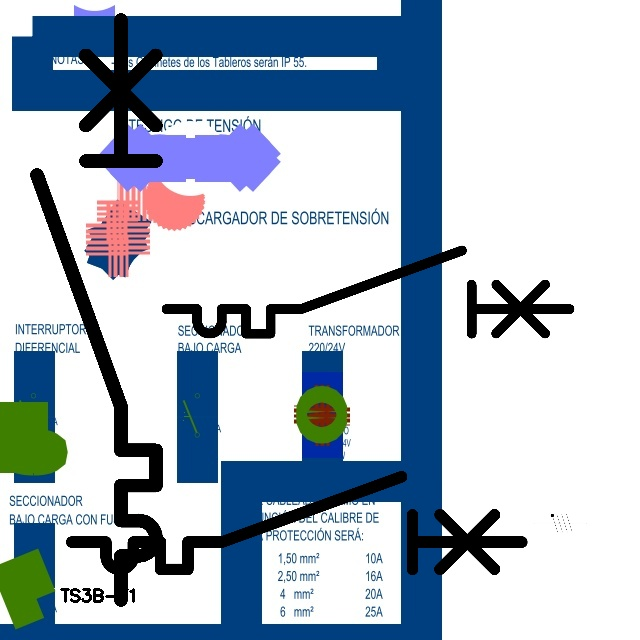interruptor_termomagnetico: (22, 5, 171, 615), (60, 465, 533, 581), (156, 240, 580, 344)
